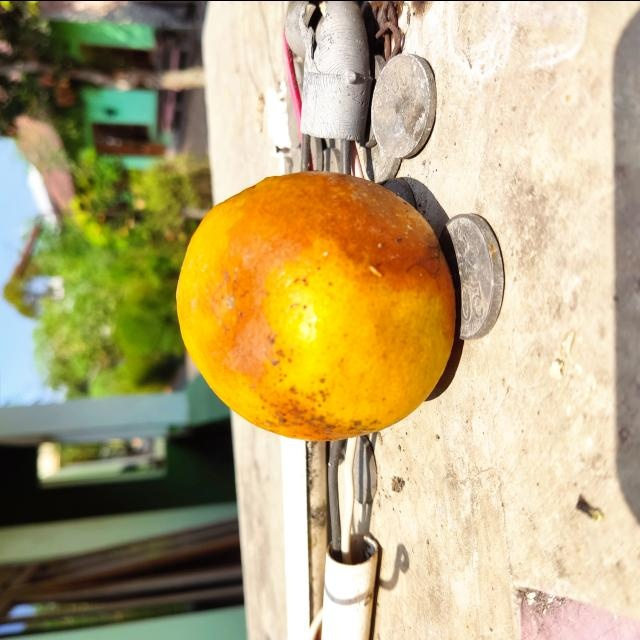agrume: (174, 169, 456, 440)
